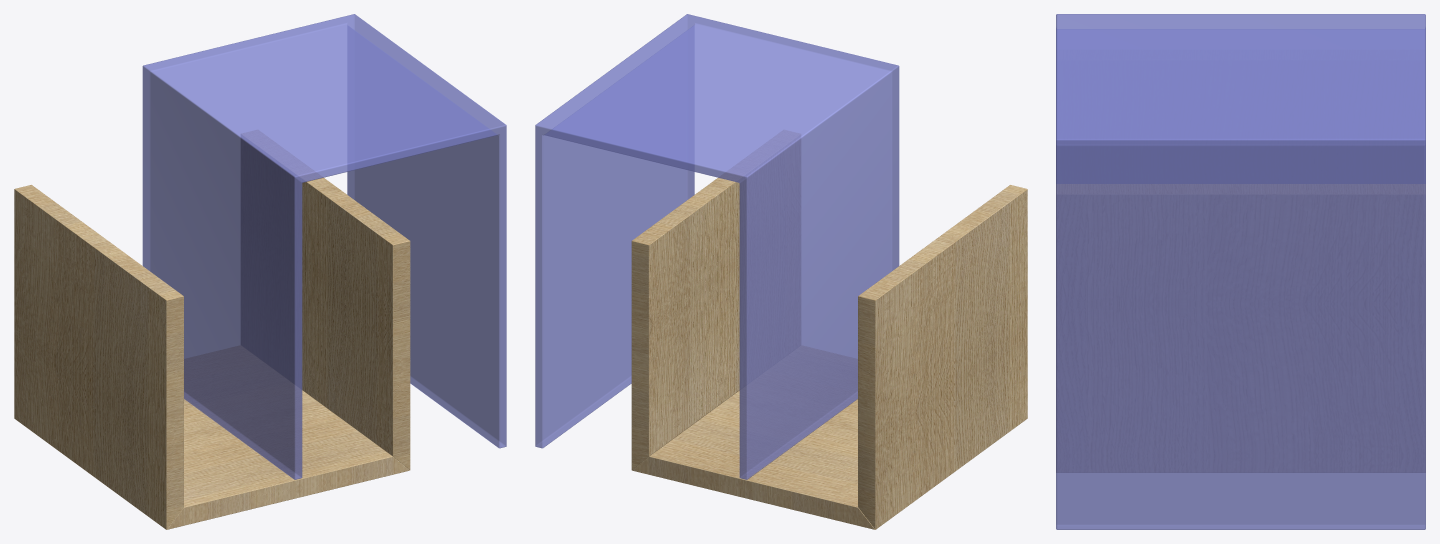
File: Table-2.obj
The picture shows the model from 3 angles, left to right: view 1: azimuth 30°, elevation 25°; view 2: azimuth 150°, elevation 25°; view 3: azimuth 270°, elevation 25°; orthographic projection. The views are drawn at different scales.
Visible parts, largest first — view 1: shelve_02; view 2: shelve_02; view 3: shelve_02.
Boxes of the visible parts, x1=… form: shelve_02: x1=14, y1=14, x2=506, y2=529; shelve_02: x1=535, y1=14, x2=1027, y2=529; shelve_02: x1=1056, y1=14, x2=1425, y2=529.
Size of the model in its own units: 465 by 420 by 360.
2 materials, 1 textured.
